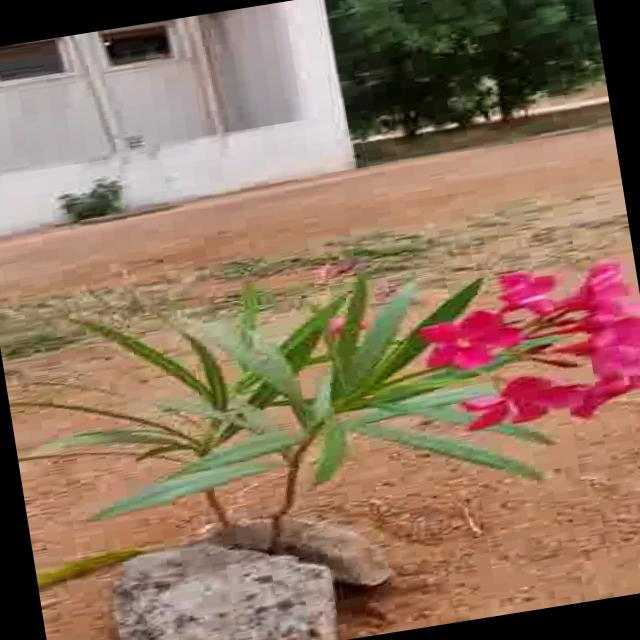Oleander: (34, 243, 640, 559)
